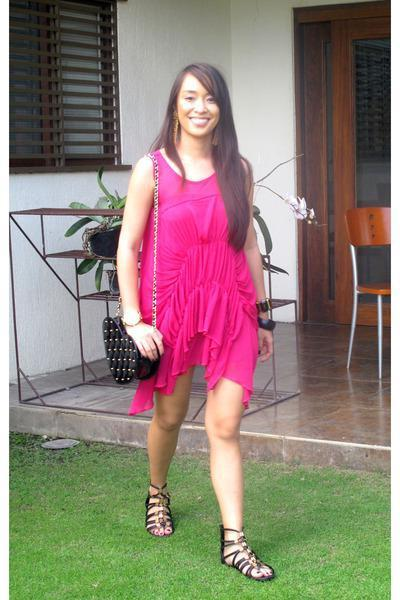dress: (123, 148, 266, 420)
